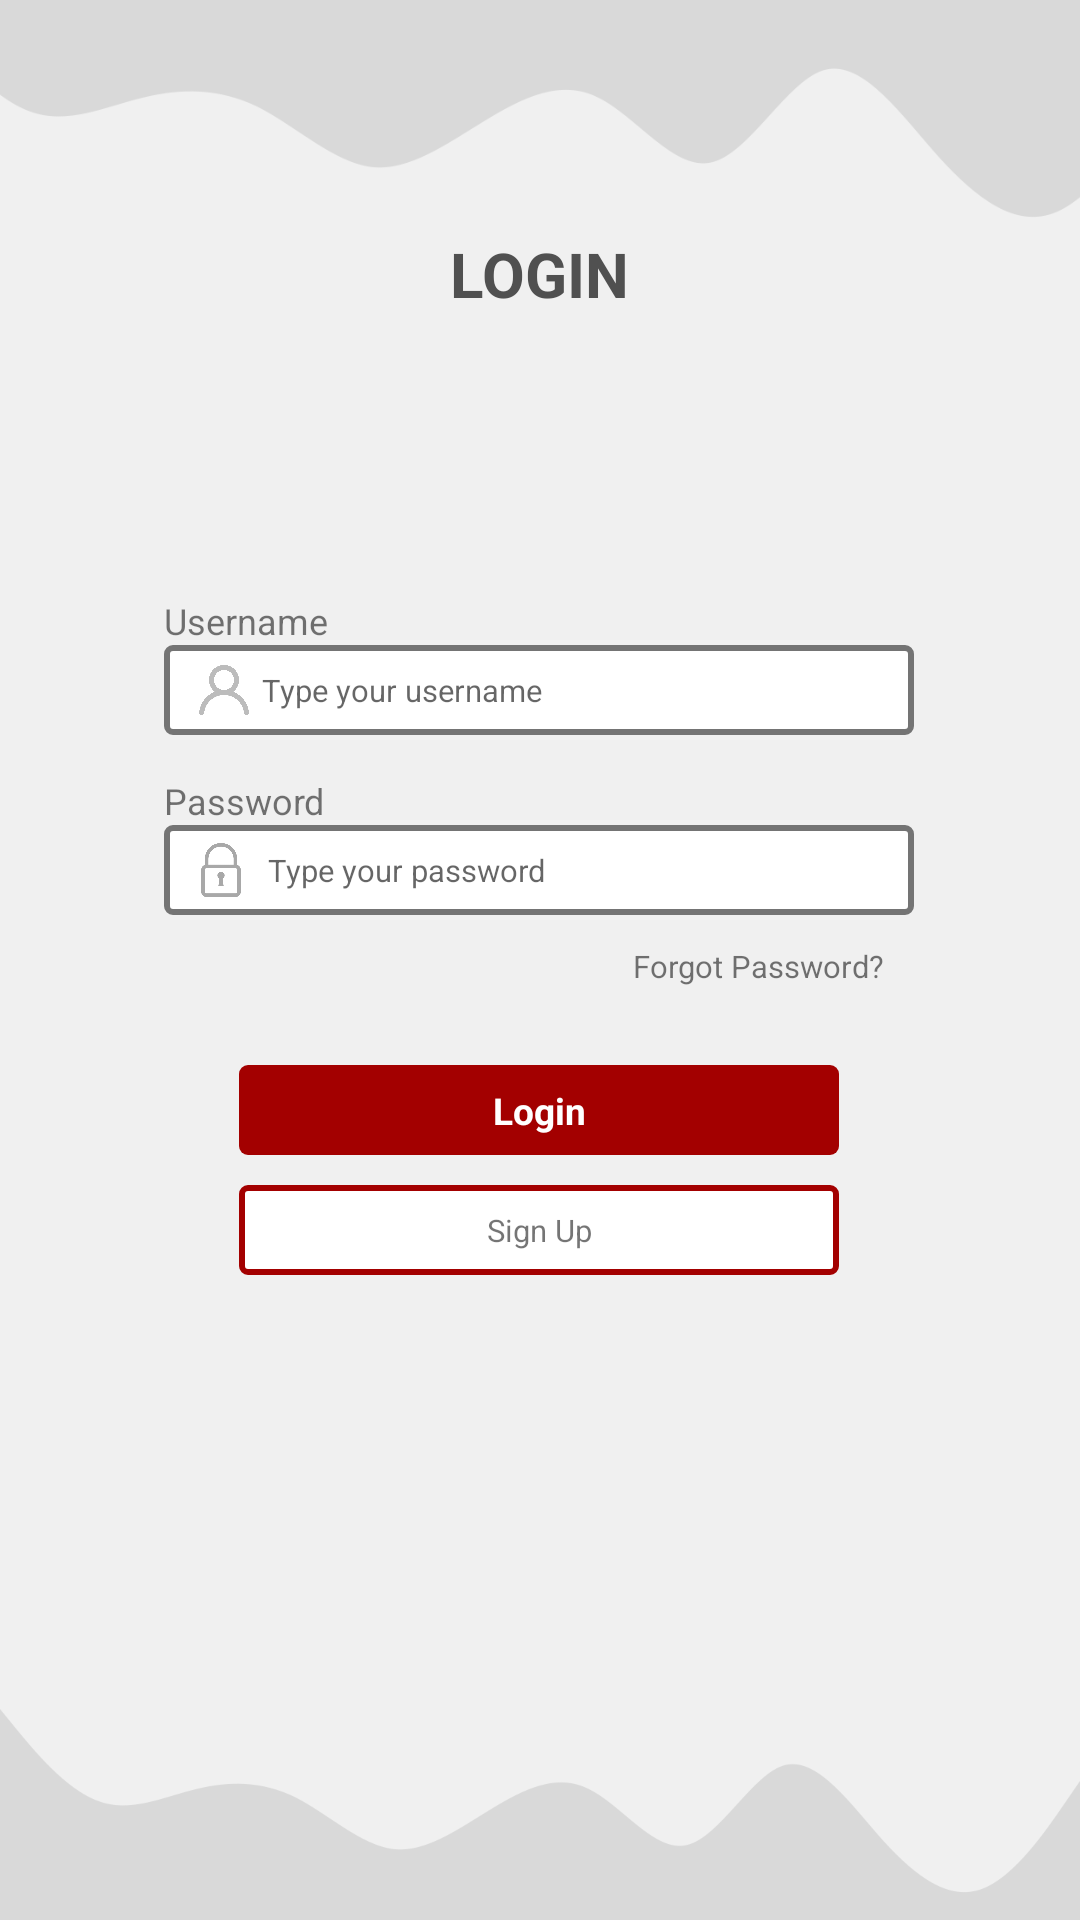

Icons on this 1080w x 1920h Android screen, each with its box as [x1=x1, y1=y1, x2=x2, y2=y2]:
account: [x1=199, y1=665, x2=249, y2=715]
lock: [x1=176, y1=825, x2=266, y2=915]
